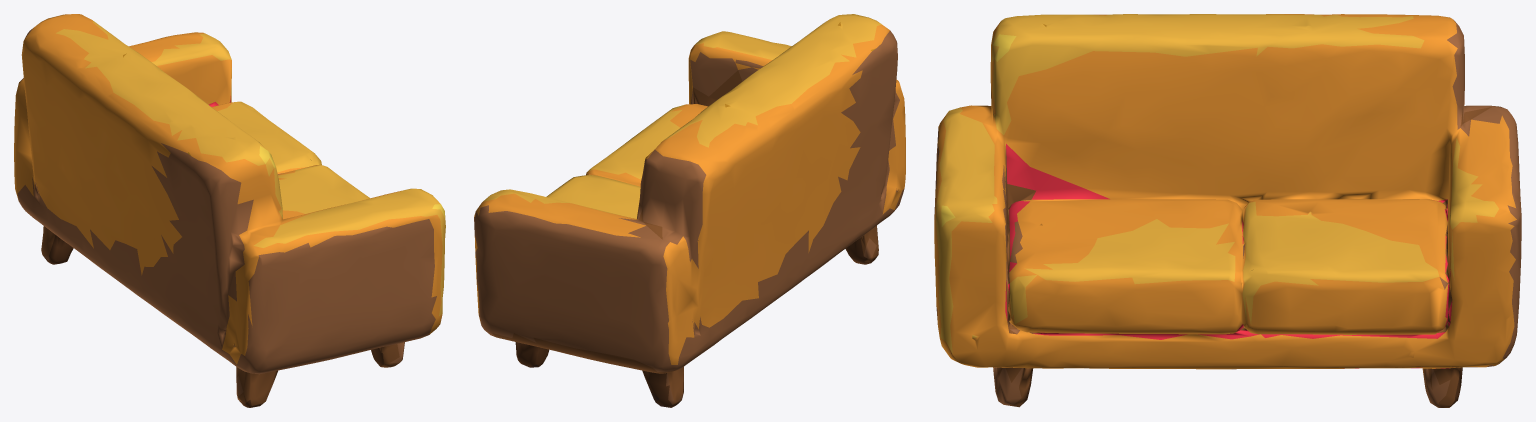
The model's file is SM_sofa_2seat_orange.glb.
3 renders of one model, left to right at view 1: azimuth 30°, elevation 25°; view 2: azimuth 150°, elevation 25°; view 3: azimuth 270°, elevation 25°, orthographic. The views are drawn at different scales.
Visible parts, largest first — view 1: SM_sofa_2seat_orange; view 2: SM_sofa_2seat_orange; view 3: SM_sofa_2seat_orange.
Boxes of the visible parts, left/top/right/bottom form: SM_sofa_2seat_orange: left=14, top=14, right=445, bottom=407; SM_sofa_2seat_orange: left=474, top=14, right=905, bottom=407; SM_sofa_2seat_orange: left=934, top=14, right=1521, bottom=407.
Size of the model in its own units: 0.742 by 0.8 by 1.42.
Materials: 1 (1 with a texture image).
